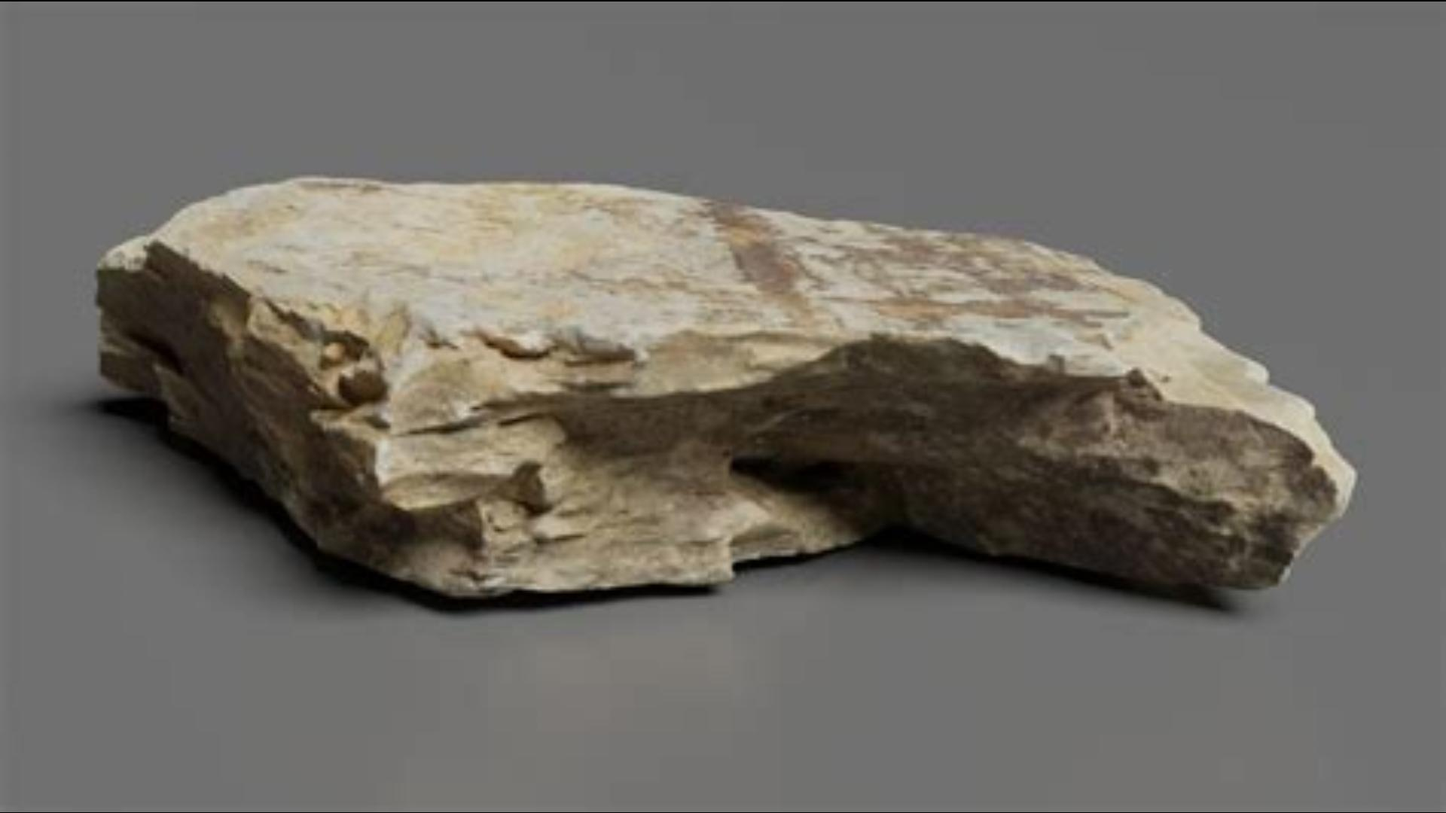rock: (98, 178, 1351, 592)
